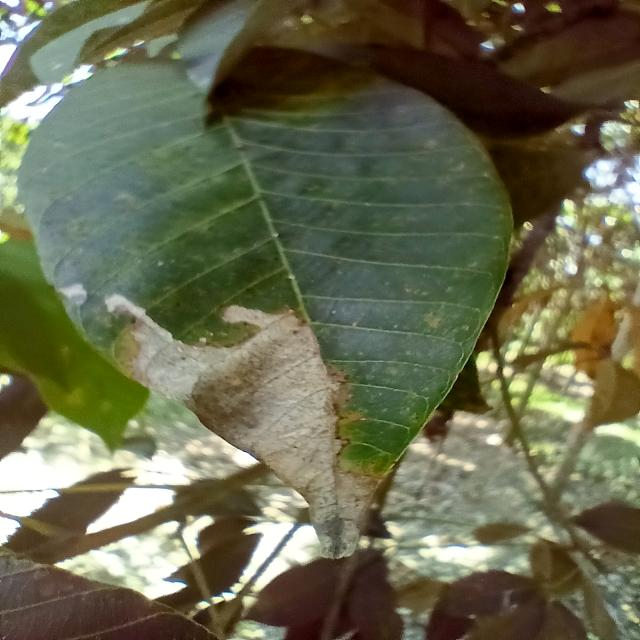Leaf-Blight: (103, 295, 380, 559)
